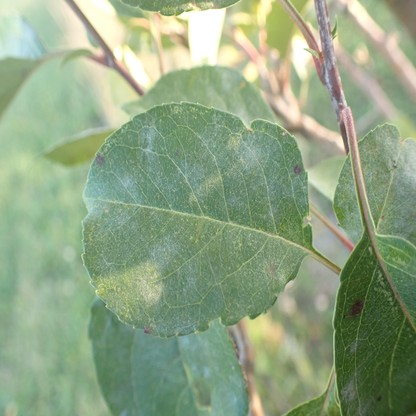powdery_mildew: (82, 101, 311, 338), (334, 233, 415, 416), (95, 318, 241, 416), (360, 123, 416, 243), (207, 67, 252, 124), (336, 156, 362, 243), (339, 375, 367, 416), (349, 341, 357, 352)
